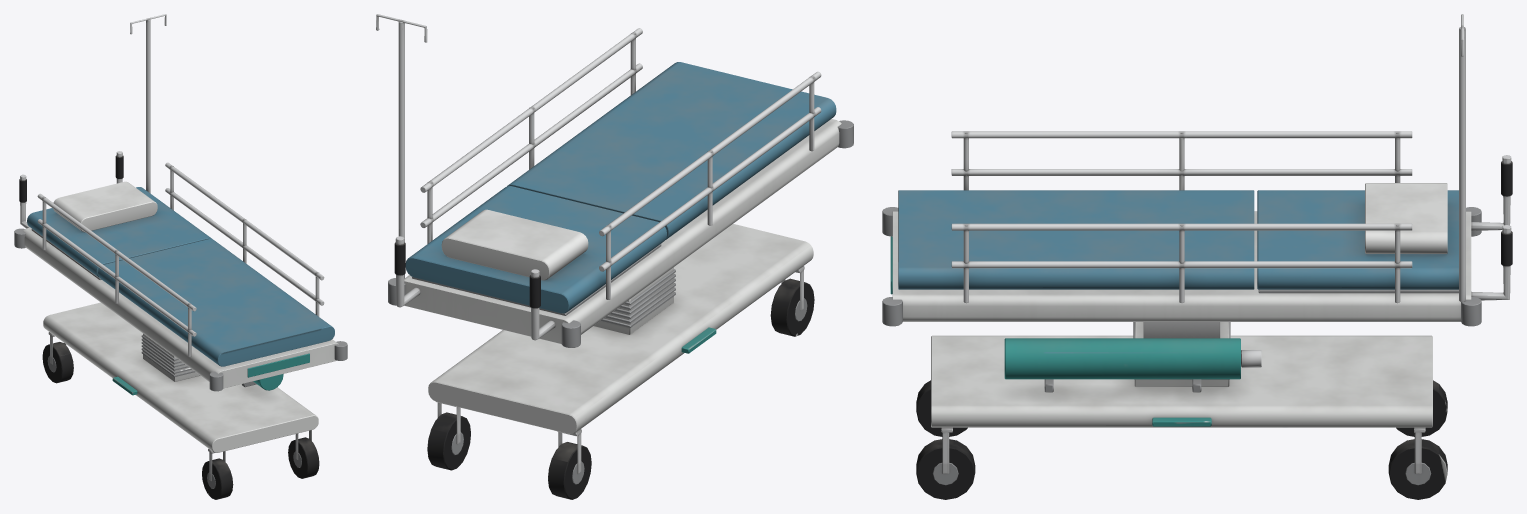
File: Stretcher.fbx
The picture shows the model from 3 angles, left to right: view 1: azimuth 30°, elevation 25°; view 2: azimuth 150°, elevation 25°; view 3: azimuth 270°, elevation 25°; orthographic projection. The views are drawn at different scales.
Visible parts, largest first — view 1: Lift_LOD0, Body_LOD0, Backrest_LOD0; view 2: Lift_LOD0, Body_LOD0, Backrest_LOD0; view 3: Lift_LOD0, Body_LOD0, Backrest_LOD0.
Boxes of the visible parts, left/top/right/bottom form: Lift_LOD0: left=14, top=14, right=347, bottom=391; Body_LOD0: left=42, top=302, right=319, bottom=499; Backrest_LOD0: left=27, top=181, right=211, bottom=279; Lift_LOD0: left=376, top=14, right=853, bottom=347; Body_LOD0: left=427, top=224, right=814, bottom=499; Backrest_LOD0: left=405, top=186, right=666, bottom=315; Lift_LOD0: left=882, top=14, right=1512, bottom=338; Body_LOD0: left=916, top=322, right=1447, bottom=499; Backrest_LOD0: left=1257, top=183, right=1458, bottom=293.
Size of what is drawn, in the model's own units: 0.8601 by 1.8 by 2.14.
Materials: 1 (1 with a texture image).
